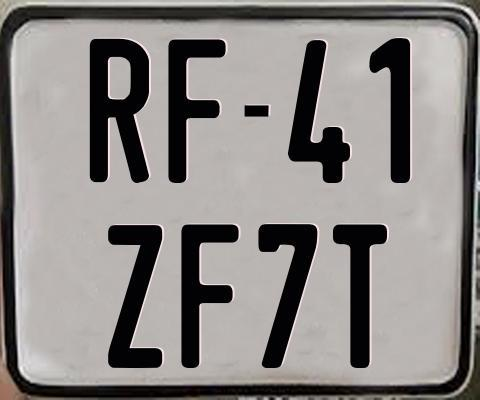1: (368, 35, 411, 183)
4: (288, 39, 350, 188)
7: (258, 221, 318, 368)
F: (180, 223, 241, 370), (165, 36, 223, 184)
R: (88, 37, 152, 181)
T: (332, 221, 386, 365)
Z: (106, 224, 160, 372)
